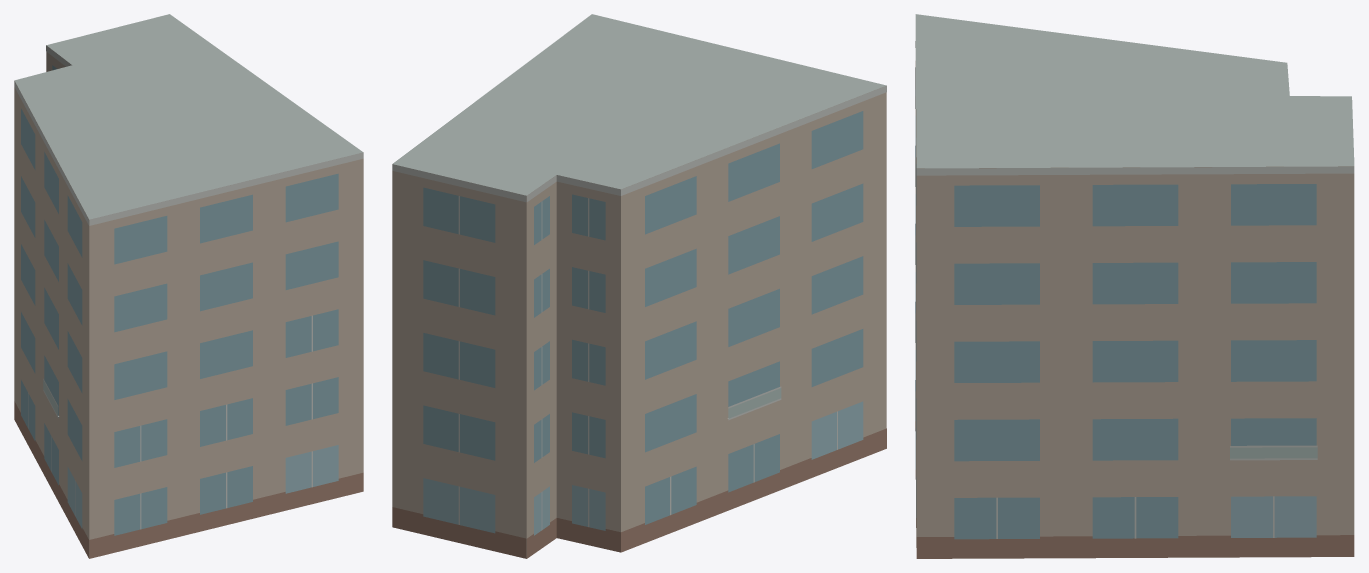
File: survey-upis-32988689.glb
The picture shows the model from 3 angles, left to right: view 1: azimuth 30°, elevation 25°; view 2: azimuth 150°, elevation 25°; view 3: azimuth 270°, elevation 25°; orthographic projection. The views are drawn at different scales.
Parts seen in each view (by area): view 1: survey-upis-32988689.tmp; view 2: survey-upis-32988689.tmp; view 3: survey-upis-32988689.tmp.
Boxes of the visible parts, bbox=[...] form: survey-upis-32988689.tmp: bbox=[14, 14, 363, 558]; survey-upis-32988689.tmp: bbox=[392, 14, 886, 558]; survey-upis-32988689.tmp: bbox=[915, 14, 1354, 558].
Bounding box in the file's own units: 11.2 × 13.2 × 13.46.
